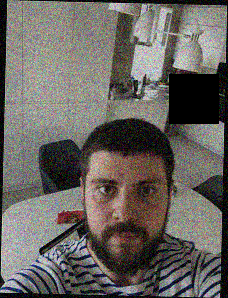without_mask: (85, 165, 167, 276)
